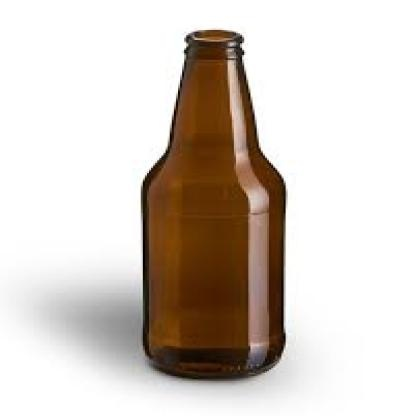trash: (142, 30, 284, 377)
